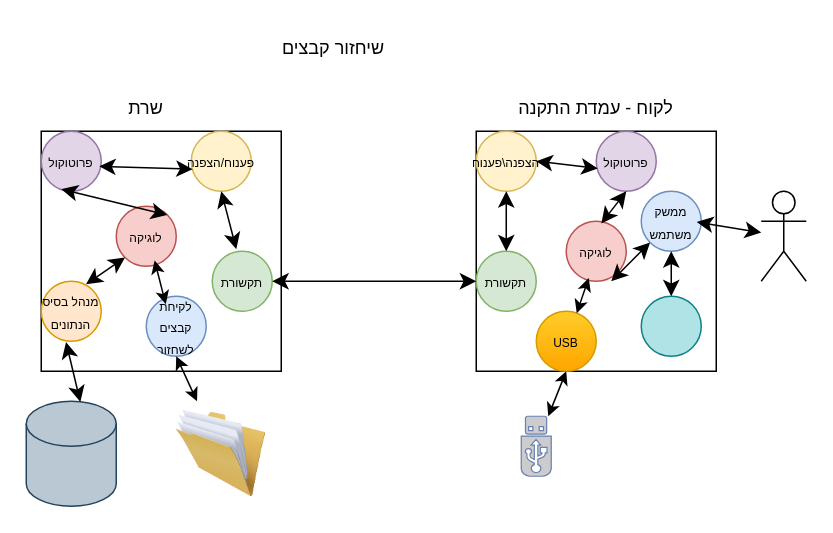
Some shapes in this 833 by 533 pixel diagram are drawn without their labels. Here are the shapes that lost their labels. From the top down, the centre of each, then its label:
(783,235): Actor
(670,325): בדיקות תקינות
